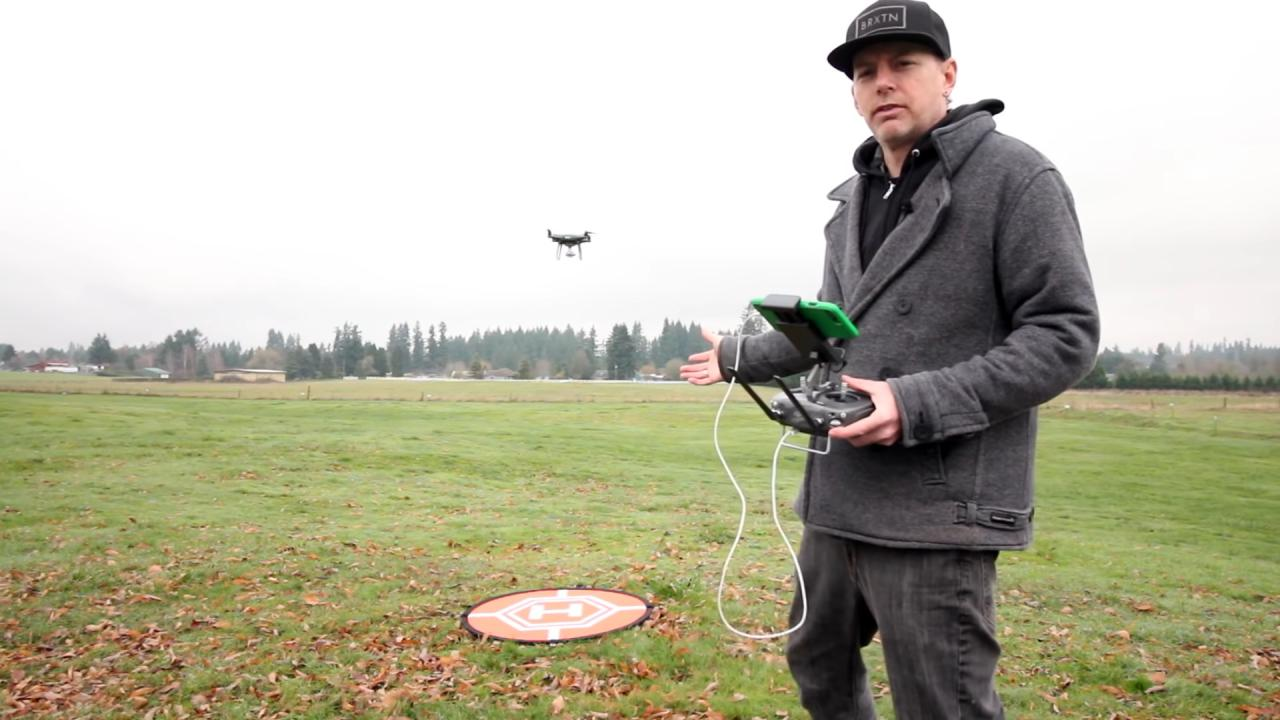Drone: (534, 221, 606, 270)
